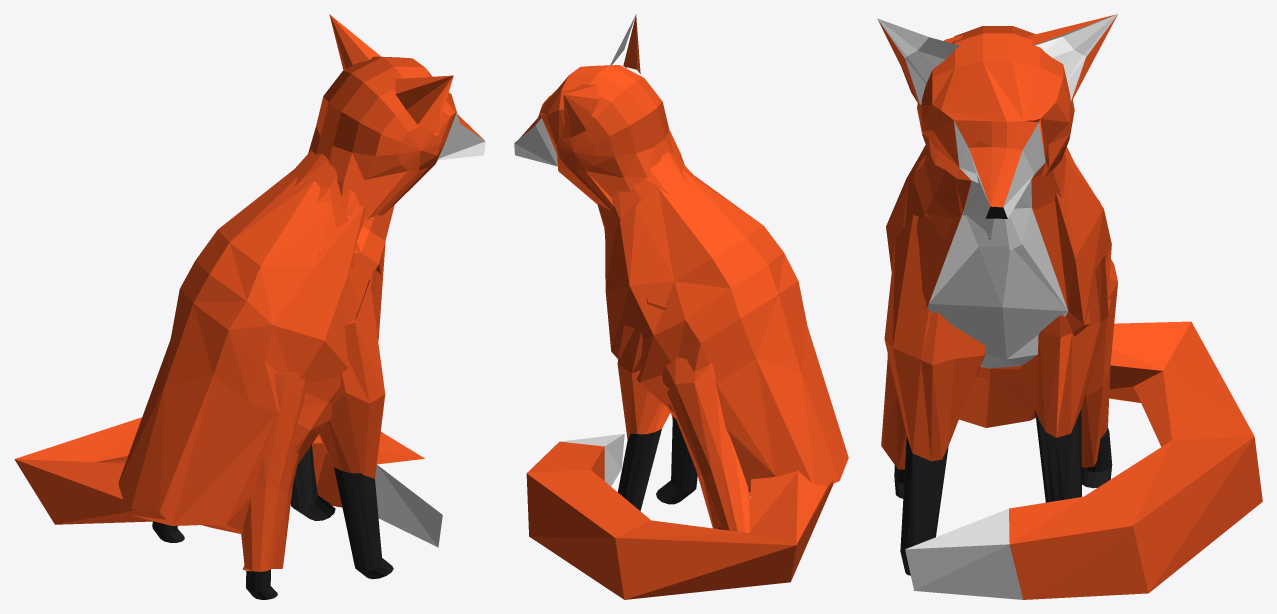
Rendered from animals-fox-102.glb.
3 views of the same model, side by side, from view 1: azimuth 30°, elevation 25°; view 2: azimuth 150°, elevation 25°; view 3: azimuth 270°, elevation 25° (orthographic). The views are drawn at different scales.
Parts seen in each view (by area): view 1: Node; view 2: Node; view 3: Node.
Part boxes in pixels (x1,y1,x2,y2): Node: [14, 14, 485, 599]; Node: [514, 14, 848, 599]; Node: [877, 14, 1262, 599].
Size of the model in its own units: 2.29 by 2.83 by 1.67.
